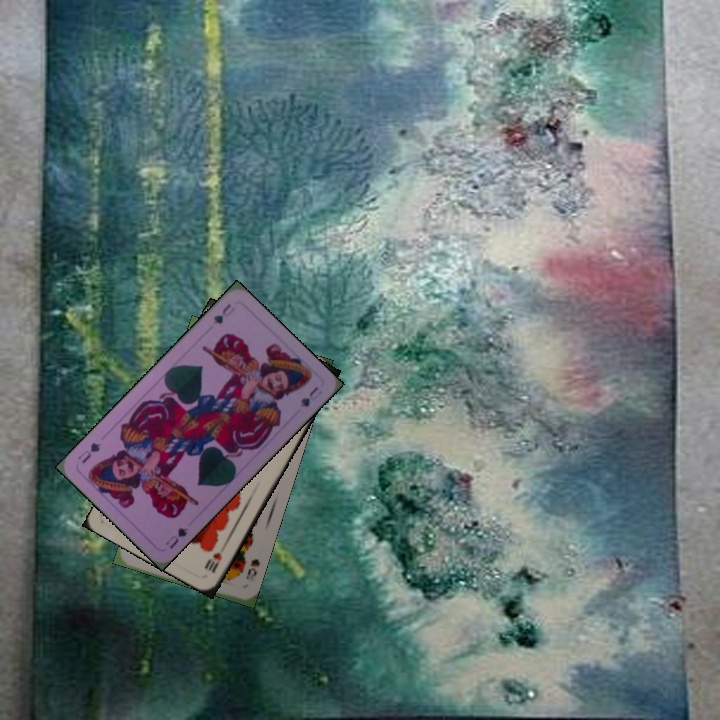GU: (161, 523, 191, 552), (209, 300, 238, 327)
H10: (201, 548, 224, 575)
S8: (242, 555, 262, 583)
